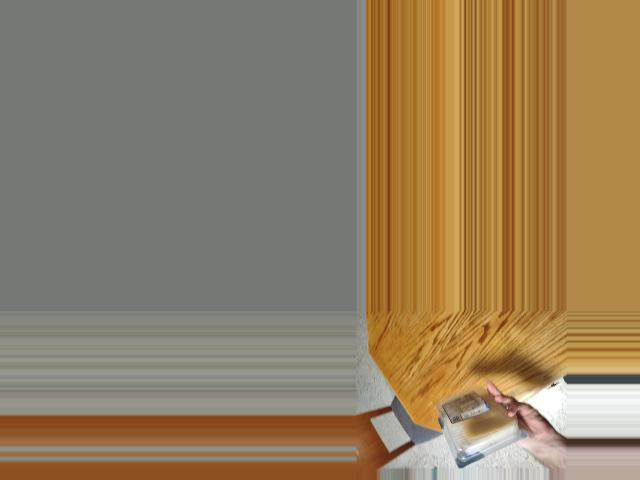cheese: (437, 396, 520, 455)
